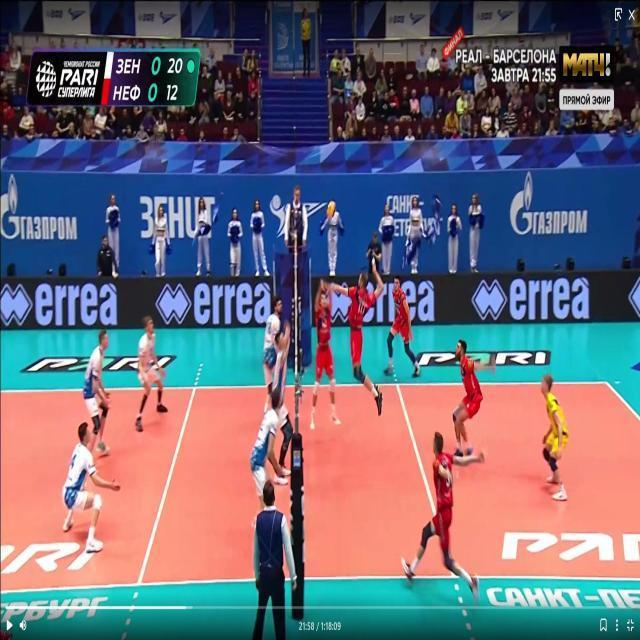volleyball: (327, 202, 336, 218)
